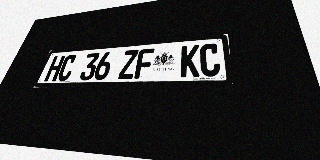3: (79, 53, 100, 80)
6: (93, 51, 114, 80)
C: (200, 43, 221, 77), (56, 54, 78, 81)
F: (134, 48, 155, 79)
H: (44, 55, 66, 82)
K: (180, 45, 199, 77)
Z: (118, 49, 139, 79)
